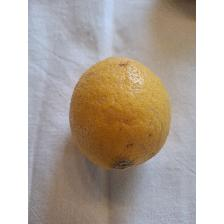Zitrone: (64, 51, 174, 175)
